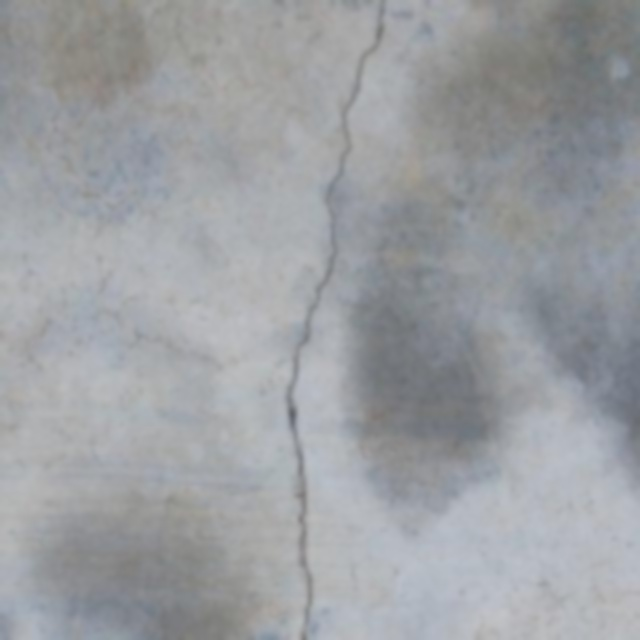SurfaceCrack: (242, 0, 424, 640)
